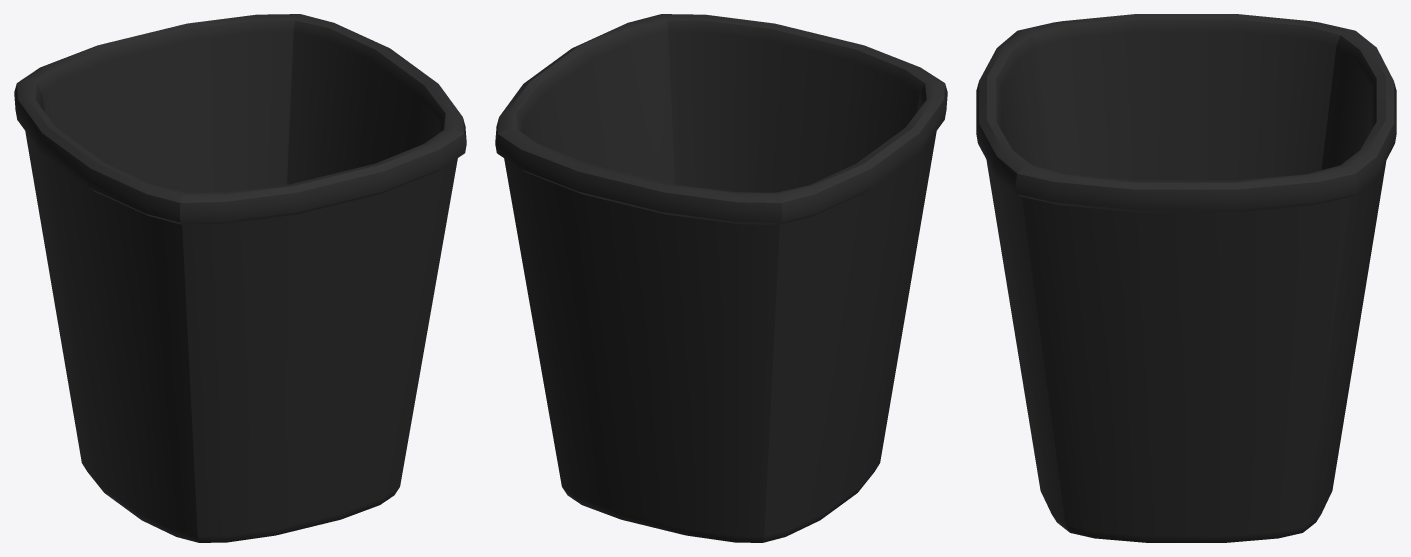
The model's file is TrashCan.fbx.
3 views of the same model, side by side, from view 1: azimuth 30°, elevation 25°; view 2: azimuth 150°, elevation 25°; view 3: azimuth 270°, elevation 25° (orthographic). The views are drawn at different scales.
Parts seen in each view (by area): view 1: TrashCan_LOD0; view 2: TrashCan_LOD0; view 3: TrashCan_LOD0.
Part boxes in pixels (left/top/right/bottom): TrashCan_LOD0: left=14, top=14, right=466, bottom=542; TrashCan_LOD0: left=495, top=14, right=947, bottom=542; TrashCan_LOD0: left=976, top=14, right=1396, bottom=542.
Bounding box in the file's own units: 45.83 × 46.81 × 45.83.
